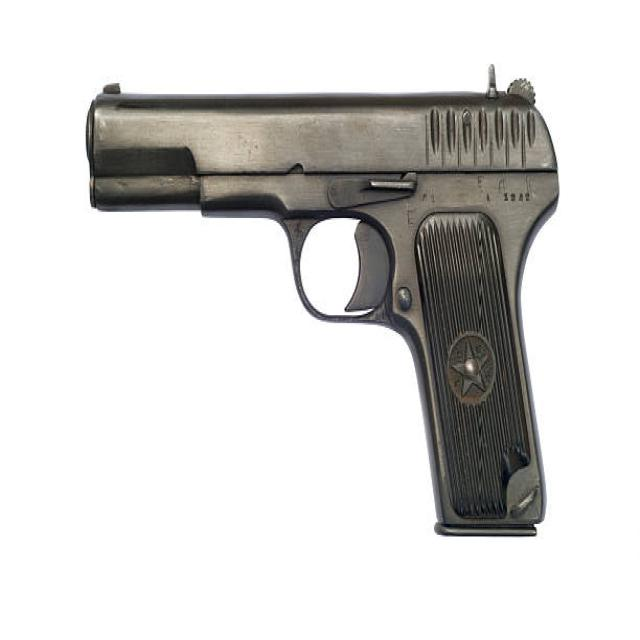pistol: (82, 55, 568, 550)
